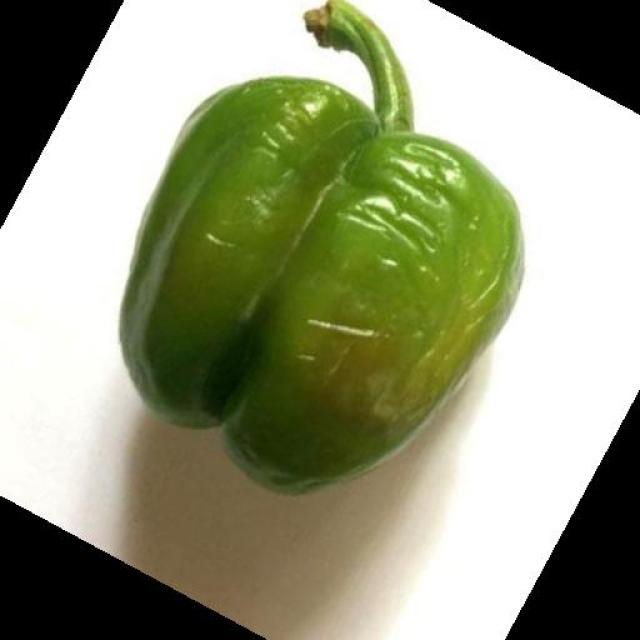Stale_Capsicum: (112, 85, 472, 469)
